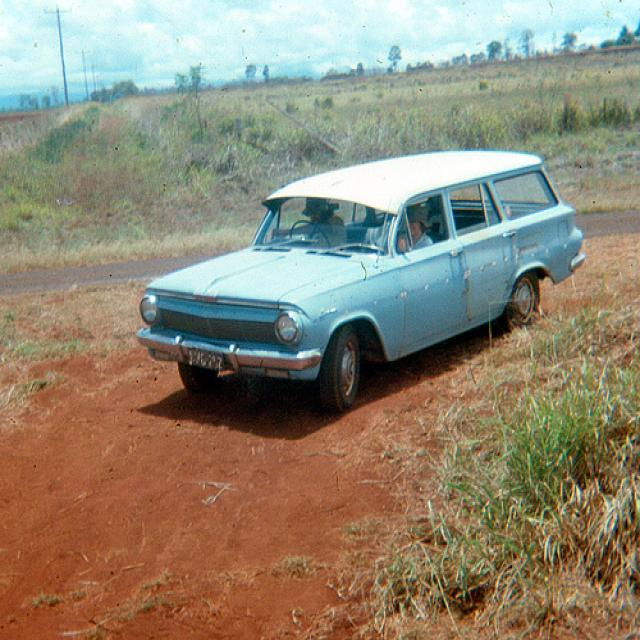Car: (131, 132, 586, 424)
